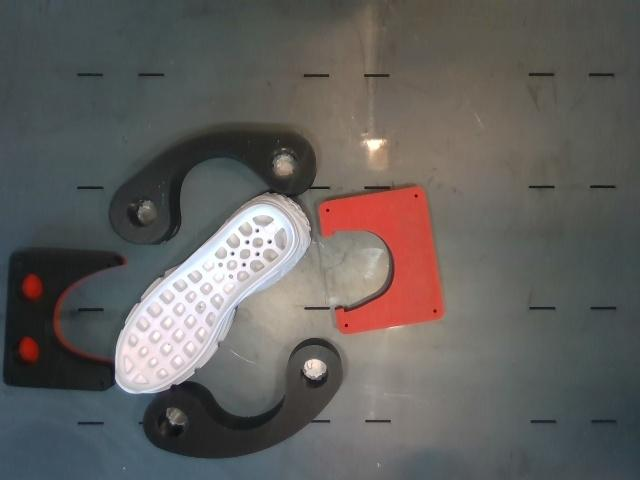shoes: (116, 205, 293, 391)
